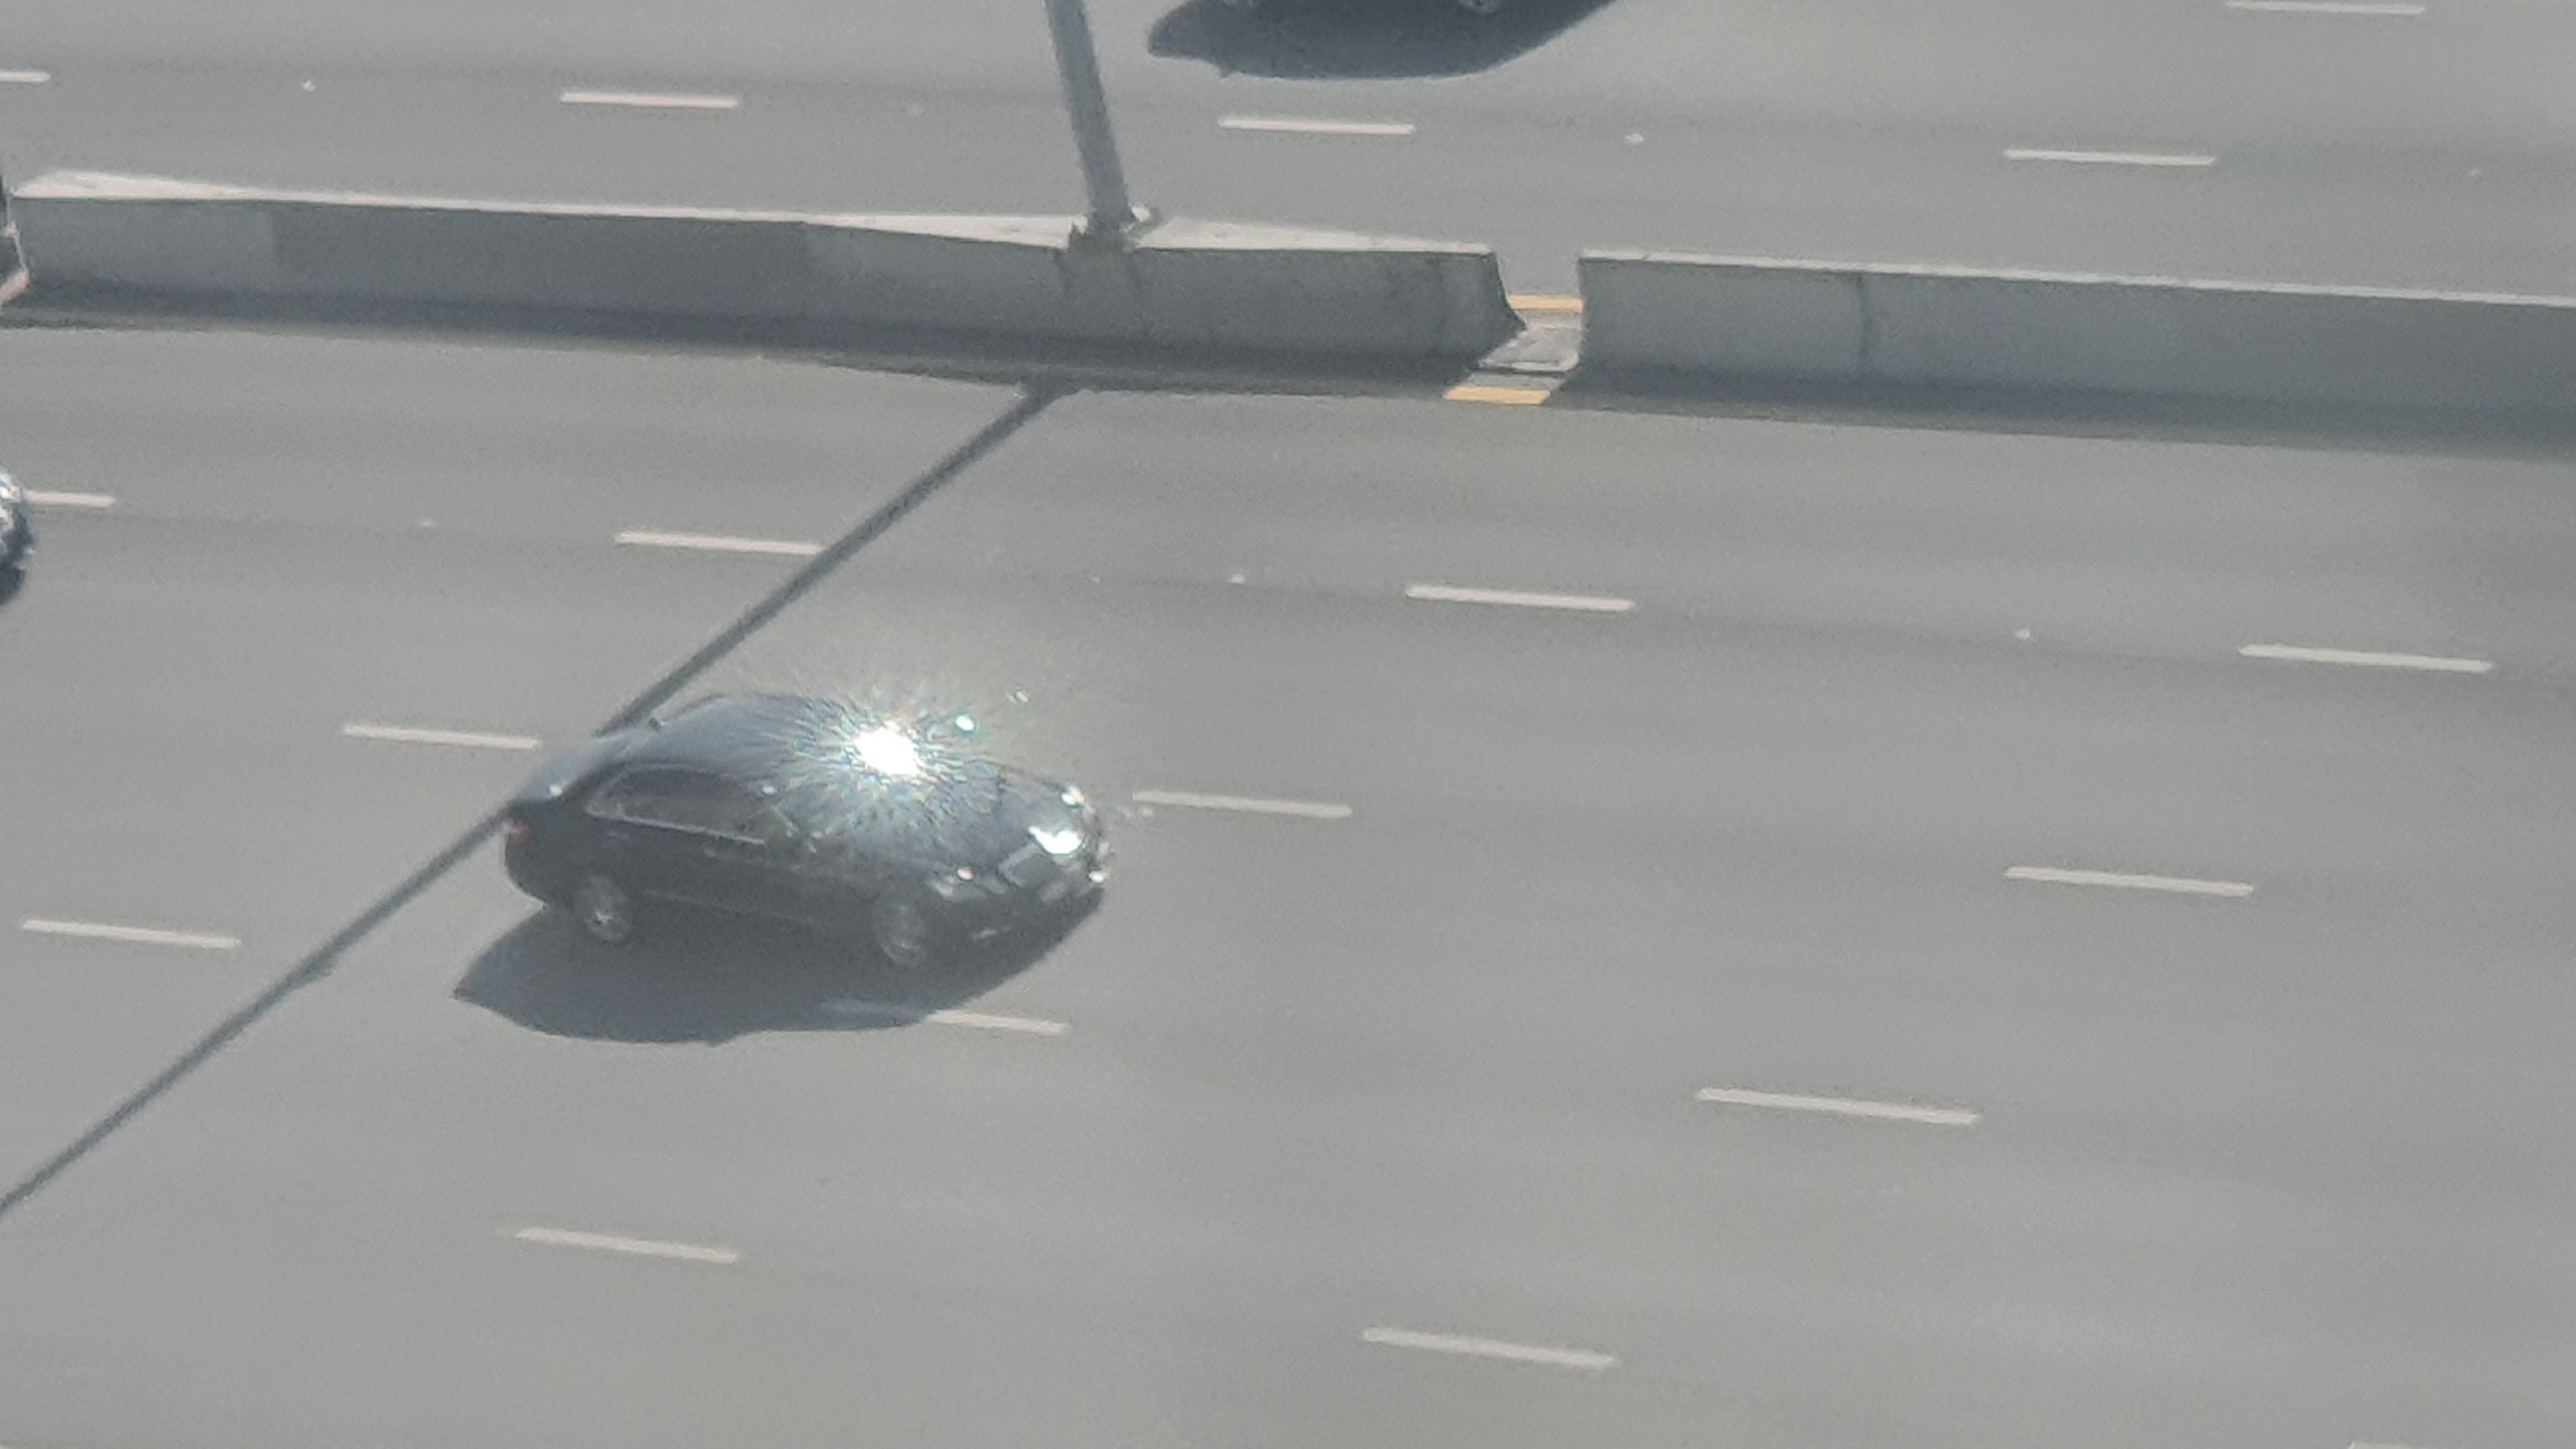Sunroof: (504, 683, 1113, 978)
